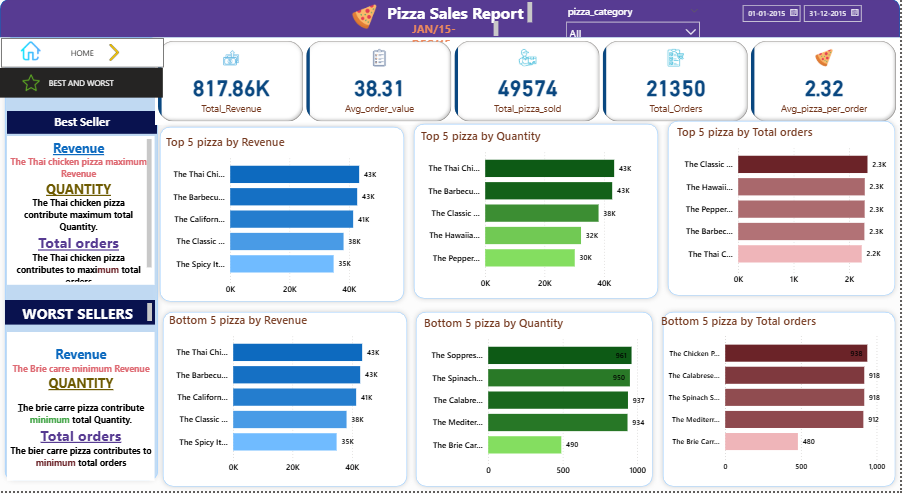

Layout of this report page (visuals, bound fields, positions):
{"tool":"powerbi","page":{"name":"BEST AND WORST","canvas":[1500,820],"ordinal":1},"visuals":[{"type":"shape","box":[0,55.4,271.4,755.4],"z":0},{"type":"textbox","box":[12.5,187.5,250,37.5],"z":1000},{"type":"cardVisual","fields":{"Data":["pizza_sales.Total_Revenue","pizza_sales.Avg_order_value","pizza_sales.Total_pizza_sold","pizza_sales.Total_Orders","pizza_sales.Avg_pizza_per_order"]},"box":[258.9,64.3,1241.1,144.6],"z":2000},{"type":"shape","box":[0,0,1500,64.3],"z":3000},{"type":"textbox","box":[639.3,0,251.8,44.6],"z":4000},{"type":"textbox","box":[682.1,32.1,153.6,44.6],"z":5000},{"type":"image","box":[548.2,3.6,117.9,51.8],"z":6000},{"type":"shape","box":[262.5,512.5,423.2,307.1],"z":7000},{"type":"shape","box":[685.7,512.5,410.7,307.1],"z":8000},{"type":"shape","box":[1096.4,512.5,403.6,307.1],"z":9000},{"type":"textbox","box":[12.5,228.6,246.4,248.2],"z":10000},{"type":"textbox","box":[8.9,501.8,250,41.1],"z":11000},{"type":"textbox","box":[12.5,555.4,246.4,248.2],"z":12000},{"type":"slicer","fields":{"Values":["pizza_sales.pizza_category"]},"box":[933.9,5.4,242.9,58.9],"z":13000},{"type":"slicer","fields":{"Values":["pizza_sales.order_date"]},"box":[1225,0,242.9,64.3],"z":14000},{"type":"shape","box":[258.9,205.4,423.2,307.1],"z":15000},{"type":"shape","box":[682.1,200,423.2,307.1],"z":16000},{"type":"shape","box":[1105.4,194.6,394.6,307.1],"z":17000},{"type":"barChart","title":"Top 5 pizza by Revenue","fields":{"Category":["pizza_sales.pizza_name"],"Y":["pizza_sales.Total_Revenue"]},"box":[271.4,225,394.6,276.8],"z":18000},{"type":"barChart","title":"Bottom 5 pizza by Revenue","fields":{"Category":["pizza_sales.pizza_name"],"Y":["pizza_sales.Total_Revenue"]},"box":[276.8,521.4,394.6,276.8],"z":19000},{"type":"barChart","title":"Bottom 5 pizza by Quantity","fields":{"Category":["pizza_sales.pizza_name"],"Y":["pizza_sales.Total_pizza_sold"]},"box":[701.8,526.8,394.6,276.8],"z":20000},{"type":"barChart","title":"Top 5 pizza by Quantity","fields":{"Category":["pizza_sales.pizza_name"],"Y":["pizza_sales.Total_Revenue"]},"box":[696.4,214.3,394.6,276.8],"z":21000},{"type":"barChart","title":"Bottom 5 pizza by Total orders","fields":{"Category":["pizza_sales.pizza_name"],"Y":["pizza_sales.Total_Orders"]},"box":[1096.4,523.2,394.6,273.2],"z":22000},{"type":"barChart","title":"Top 5 pizza by Total orders","fields":{"Category":["pizza_sales.pizza_name"],"Y":["pizza_sales.Total_Orders"]},"box":[1123.2,208.9,376.8,276.8],"z":23000},{"type":"pageNavigator","box":[1.8,64.3,271.4,50],"z":24000},{"type":"pageNavigator","box":[0,114.3,271.4,50],"z":25000},{"type":"image","box":[137.5,69.6,103.6,37.5],"z":26000},{"type":"image","box":[12.5,64.3,78.6,42.9],"z":27000},{"type":"image","box":[17.9,119.6,66.1,39.3],"z":28000}]}

Visuals, with their boxes in screenshot pixels (x1, y1, x2, y2), scaled from the page's 1500x820 canvas onto the 903x494 screenshot:
shape: {"x1": 0, "y1": 33, "x2": 163, "y2": 488}
textbox: {"x1": 8, "y1": 113, "x2": 158, "y2": 136}
cardVisual - pizza_sales.Total_Revenue x pizza_sales.Avg_order_value: {"x1": 156, "y1": 39, "x2": 902, "y2": 126}
shape: {"x1": 0, "y1": 0, "x2": 902, "y2": 39}
textbox: {"x1": 385, "y1": 0, "x2": 536, "y2": 27}
textbox: {"x1": 411, "y1": 19, "x2": 503, "y2": 46}
image: {"x1": 330, "y1": 2, "x2": 401, "y2": 33}
shape: {"x1": 158, "y1": 309, "x2": 413, "y2": 493}
shape: {"x1": 413, "y1": 309, "x2": 660, "y2": 493}
shape: {"x1": 660, "y1": 309, "x2": 902, "y2": 493}
textbox: {"x1": 8, "y1": 138, "x2": 156, "y2": 287}
textbox: {"x1": 5, "y1": 302, "x2": 156, "y2": 327}
textbox: {"x1": 8, "y1": 335, "x2": 156, "y2": 484}
slicer - pizza_sales.pizza_category: {"x1": 562, "y1": 3, "x2": 708, "y2": 39}
slicer - pizza_sales.order_date: {"x1": 737, "y1": 0, "x2": 884, "y2": 39}
shape: {"x1": 156, "y1": 124, "x2": 411, "y2": 309}
shape: {"x1": 411, "y1": 120, "x2": 665, "y2": 305}
shape: {"x1": 665, "y1": 117, "x2": 902, "y2": 302}
"Top 5 pizza by Revenue" barChart: {"x1": 163, "y1": 136, "x2": 401, "y2": 302}
"Bottom 5 pizza by Revenue" barChart: {"x1": 167, "y1": 314, "x2": 404, "y2": 481}
"Bottom 5 pizza by Quantity" barChart: {"x1": 422, "y1": 317, "x2": 660, "y2": 484}
"Top 5 pizza by Quantity" barChart: {"x1": 419, "y1": 129, "x2": 657, "y2": 296}
"Bottom 5 pizza by Total orders" barChart: {"x1": 660, "y1": 315, "x2": 898, "y2": 480}
"Top 5 pizza by Total orders" barChart: {"x1": 676, "y1": 126, "x2": 902, "y2": 293}
pageNavigator: {"x1": 1, "y1": 39, "x2": 164, "y2": 69}
pageNavigator: {"x1": 0, "y1": 69, "x2": 163, "y2": 99}
image: {"x1": 83, "y1": 42, "x2": 145, "y2": 65}
image: {"x1": 8, "y1": 39, "x2": 55, "y2": 65}
image: {"x1": 11, "y1": 72, "x2": 51, "y2": 96}
